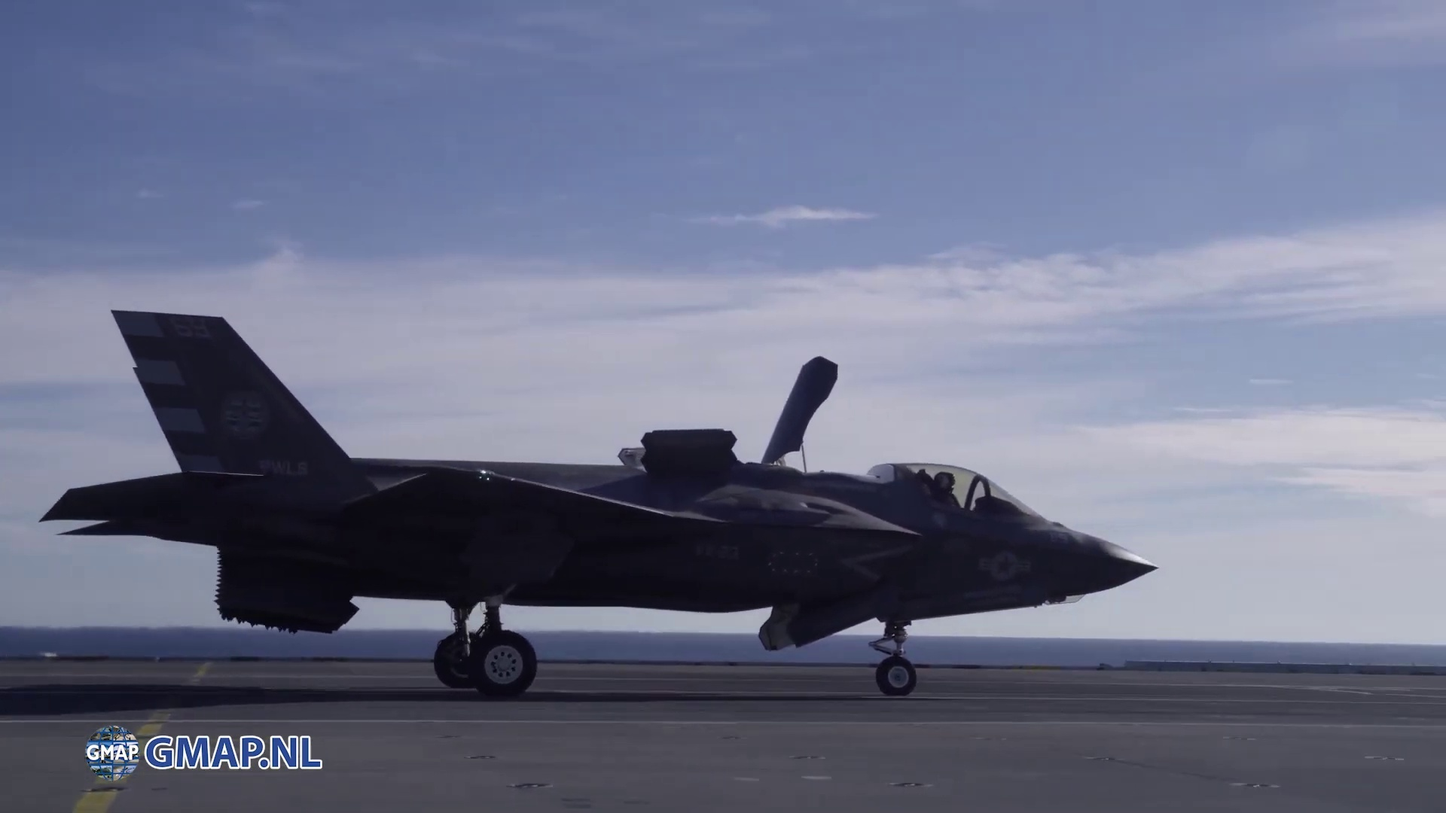F35: (35, 301, 1167, 708)
